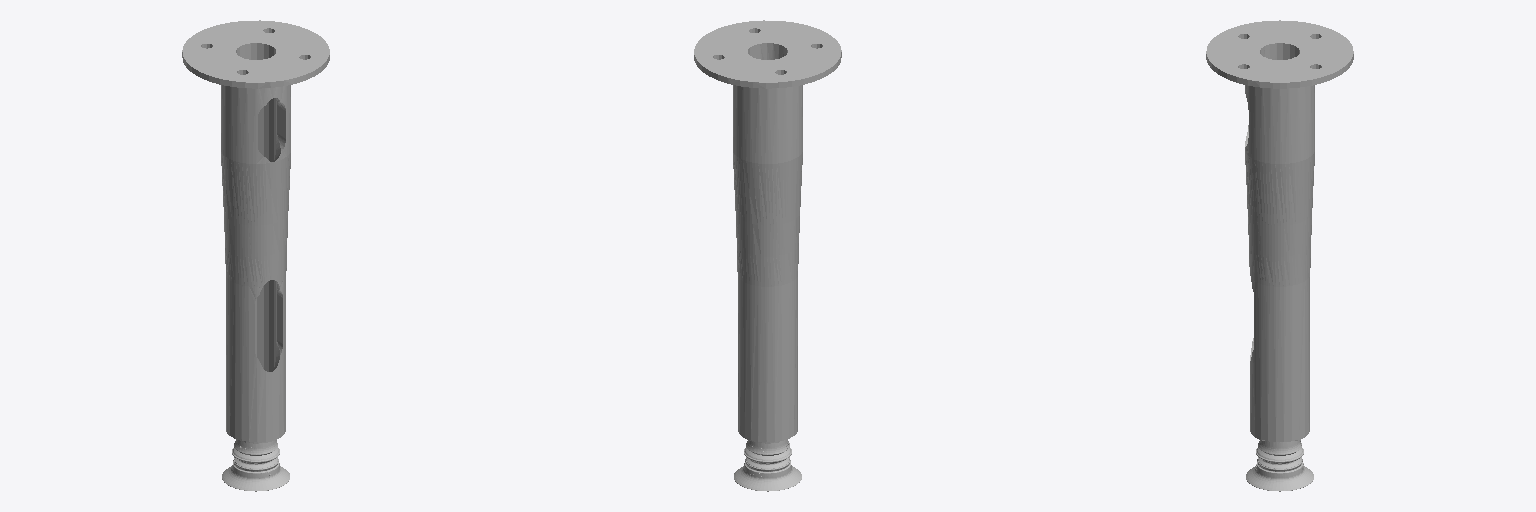
The robot description file, URDF, robot "toolv4":
<?xml version="1.0" encoding="utf-8"?>
<!-- This URDF was automatically created by SolidWorks to URDF Exporter! Originally created by Stephen Brawner (brawner@gmail.com) 
     Commit Version: 1.6.0-4-g7f85cfe  Build Version: 1.6.7995.38578
     For more information, please see http://wiki.ros.org/sw_urdf_exporter -->
<robot
  name="toolv4">
  <link
    name="base_link">
    <inertial>
      <origin
        xyz="-2.08504064305726E-07 0.000946243534314037 -0.0937363325392662"
        rpy="0 0 0" />
      <mass
        value="0.112866359080669" />
      <inertia
        ixx="0.000424820427104168"
        ixy="-1.31976314459011E-10"
        ixz="-1.41264170582465E-10"
        iyy="0.000425999674656471"
        iyz="1.93310380406254E-07"
        izz="2.61198381336393E-05" />
    </inertial>
    <visual>
      <origin
        xyz="0 0 0"
        rpy="0 0 0" />
      <geometry>
        <mesh
          filename="package://toolv4/meshes/base_link.STL" />
      </geometry>
      <material
        name="">
        <color
          rgba="0.752941176470588 0.752941176470588 0.752941176470588 1" />
      </material>
    </visual>
    <collision>
      <origin
        xyz="0 0 0"
        rpy="0 0 0" />
      <geometry>
        <mesh
          filename="package://toolv4/meshes/base_link.STL" />
      </geometry>
    </collision>
  </link>
</robot>

--- Facts derived from the render (not from the file) ---
Views: 3 orthographic renders of the robot side by side, from view 1: azimuth 30°, elevation 25°; view 2: azimuth 150°, elevation 25°; view 3: azimuth 270°, elevation 25°.
Robot: toolv4 — 1 links, 0 joints (none); root link base_link; default pose: every joint at zero.
Visible links, largest first — view 1: base_link; view 2: base_link; view 3: base_link.
Boxes of the visible links, x1=… form: base_link: x1=182, y1=20, x2=329, y2=491; base_link: x1=694, y1=20, x2=841, y2=491; base_link: x1=1206, y1=20, x2=1353, y2=491.
Bounding box of the posed robot: 0.073 × 0.073 × 0.2321 m (x, y, z).
1 mesh visuals loaded from 1 distinct referenced files (1 binary STL).
